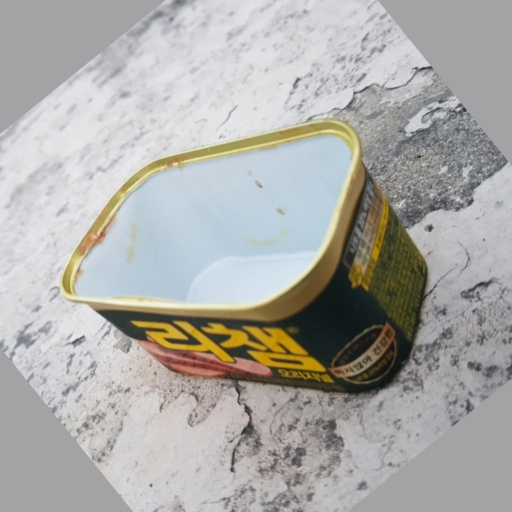Metal_2: (62, 113, 428, 387)
